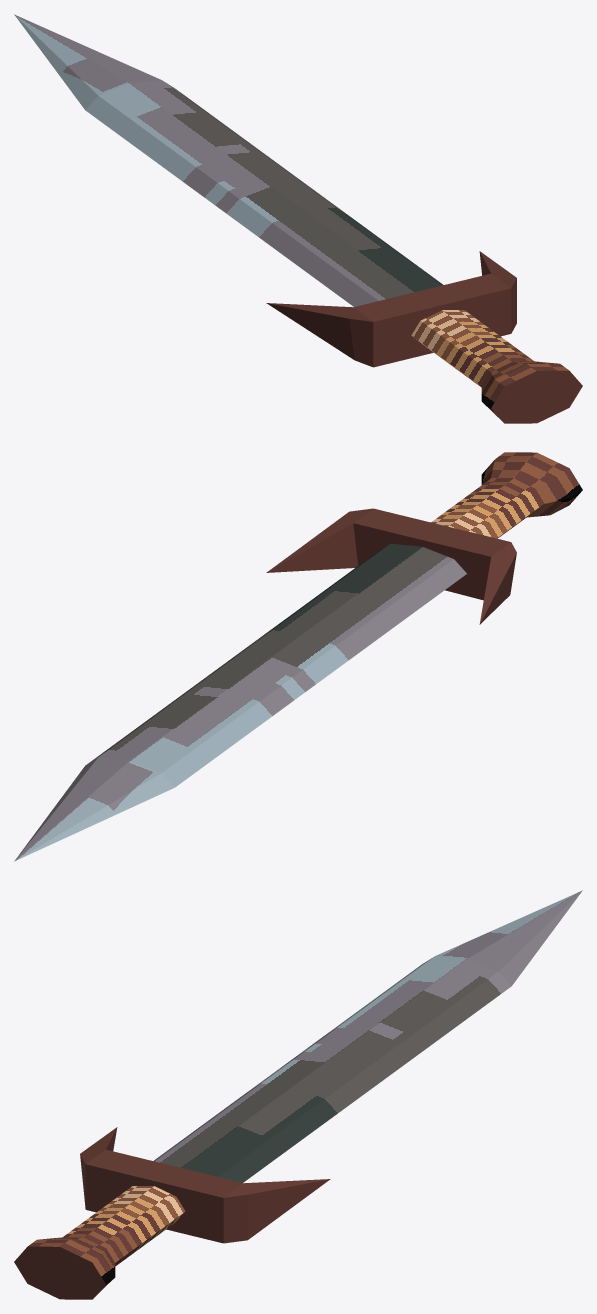
Rendered from shortsword.glb.
3 renders of one model, top to bottom at view 1: azimuth 30°, elevation 25°; view 2: azimuth 150°, elevation 25°; view 3: azimuth 330°, elevation 25°, orthographic.
Parts seen in each view (by area): view 1: Cylinder; view 2: Cylinder; view 3: Cylinder.
Boxes of the visible parts, x1,y1,x2,y2 form: Cylinder: (14, 14, 582, 423); Cylinder: (14, 452, 582, 861); Cylinder: (14, 890, 582, 1299).
Size of the model in its own units: 0.2411 by 0.0567 by 1.02.
1 material, 1 textured.
